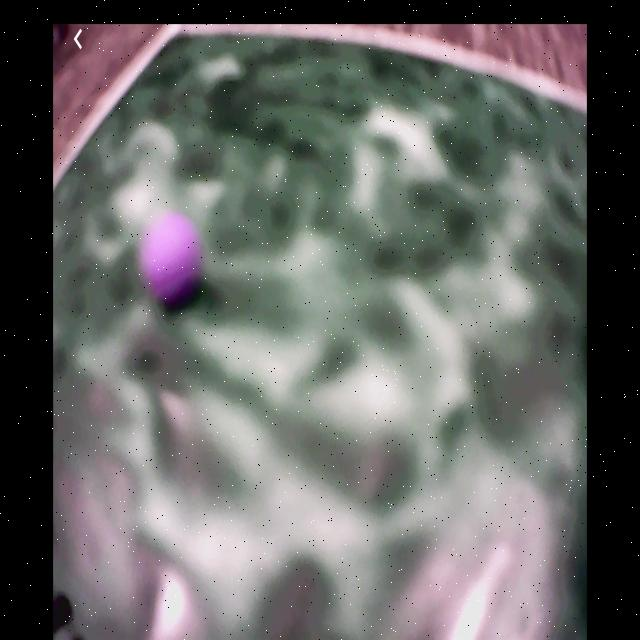ball: (138, 209, 206, 311)
